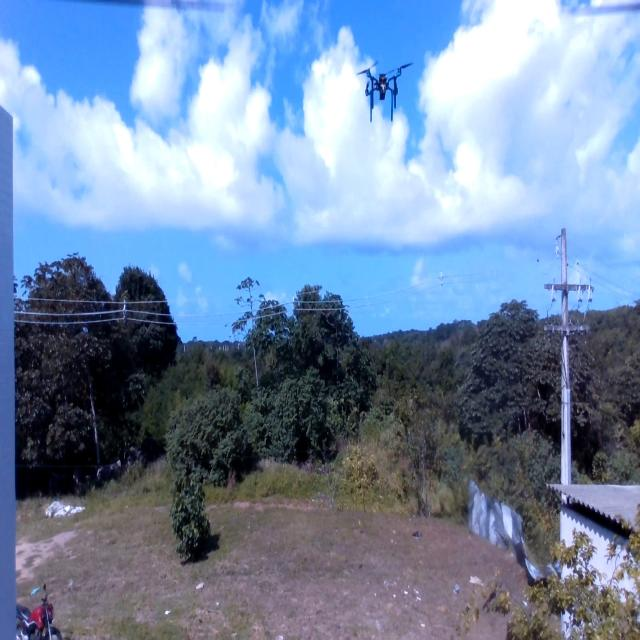-uav-: (355, 49, 416, 138)
